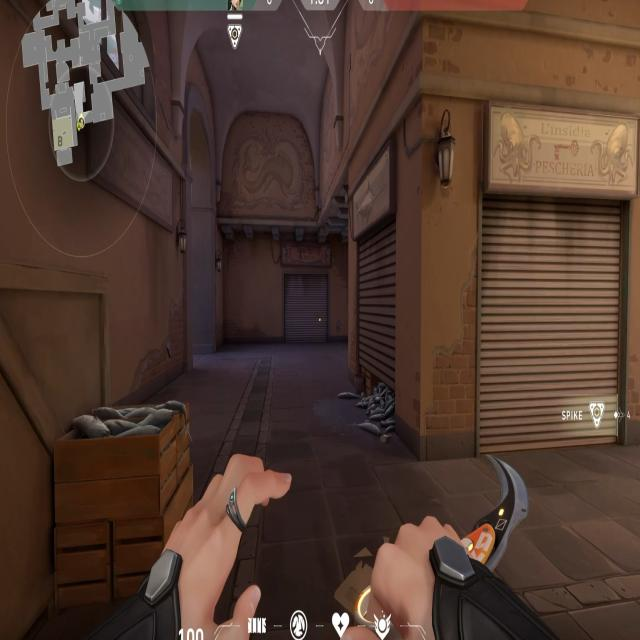B_Main_Corner: (342, 148, 414, 433)
